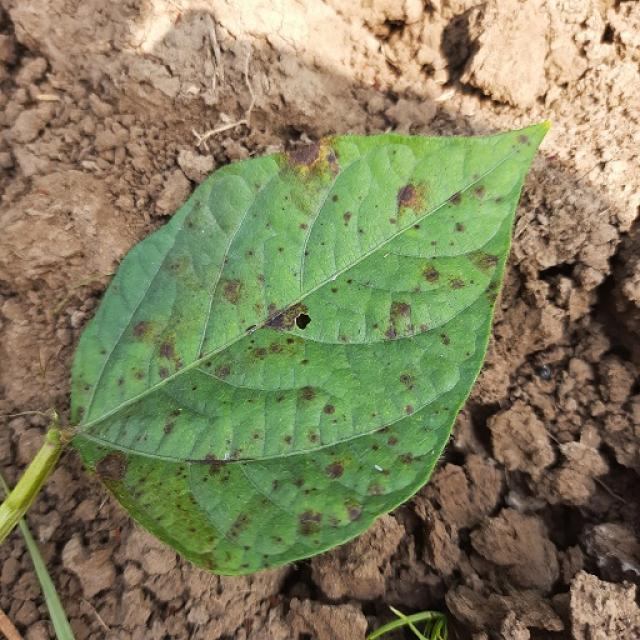Anthracnose: (186, 458, 263, 540), (205, 174, 252, 234), (381, 292, 419, 346), (264, 302, 309, 332), (285, 138, 324, 169), (93, 452, 127, 483), (467, 250, 500, 275), (396, 183, 418, 213), (220, 278, 242, 304), (132, 320, 154, 340), (299, 509, 322, 528), (206, 457, 229, 476), (324, 461, 344, 479), (421, 265, 440, 283), (69, 404, 85, 425), (158, 341, 175, 360), (347, 505, 362, 521), (300, 387, 317, 401), (449, 277, 466, 290), (449, 191, 463, 206), (215, 365, 230, 379), (399, 373, 414, 387), (163, 421, 176, 436), (251, 347, 267, 359), (386, 435, 399, 446), (517, 134, 530, 145), (342, 211, 352, 225), (439, 335, 451, 346), (133, 370, 144, 381), (45, 437, 56, 448), (323, 404, 335, 414), (245, 324, 257, 334), (455, 222, 465, 233), (283, 435, 293, 445), (299, 222, 308, 230), (332, 194, 339, 203), (331, 287, 338, 294)
Blackgram: (66, 125, 548, 574)
